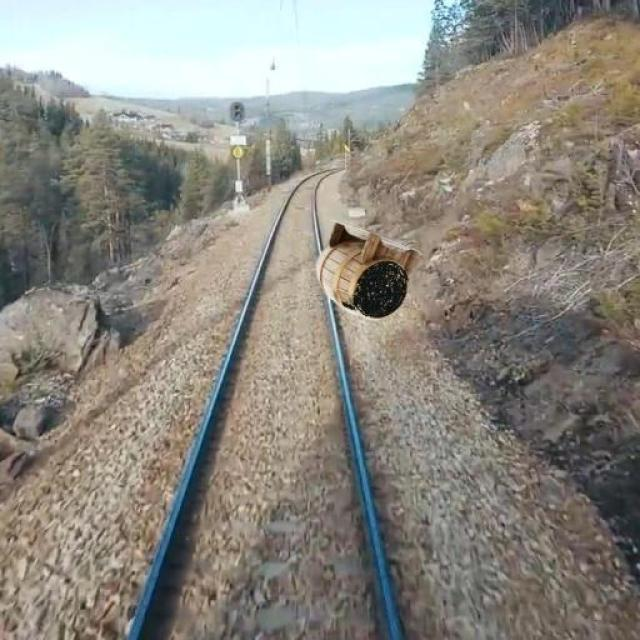Other_objects: (302, 222, 422, 321)
